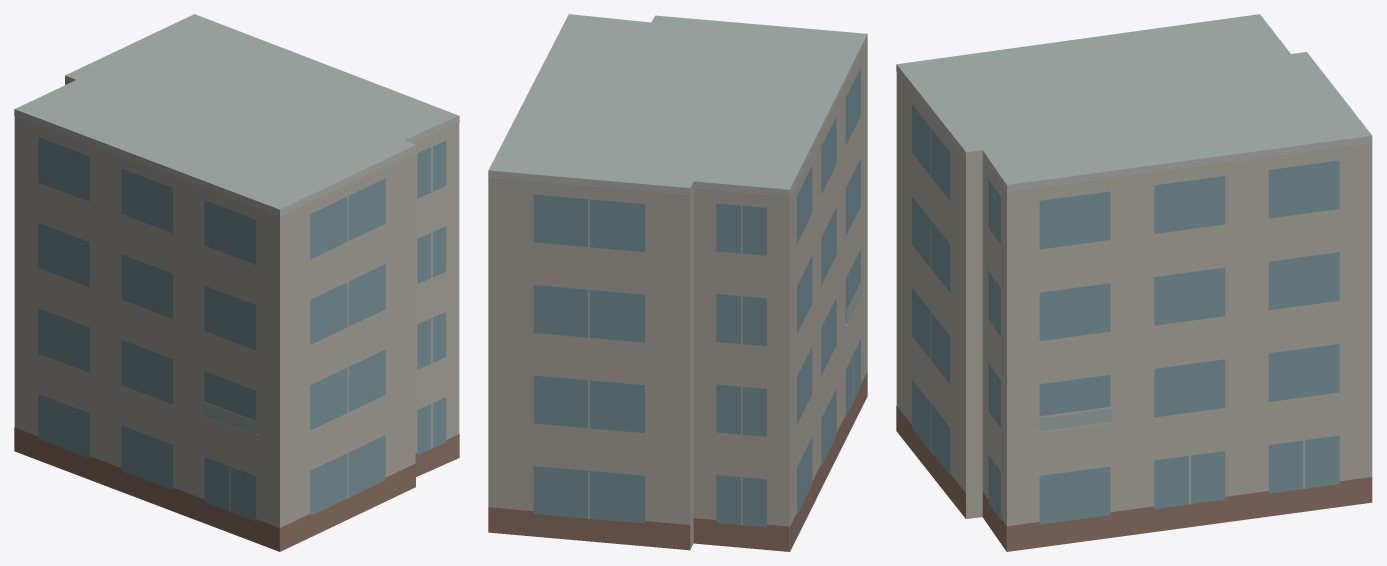
File: survey-upis-32526293.glb
3 renders of one model, left to right at view 1: azimuth 30°, elevation 25°; view 2: azimuth 150°, elevation 25°; view 3: azimuth 270°, elevation 25°, orthographic. The views are drawn at different scales.
Parts seen in each view (by area): view 1: survey-upis-32526293.tmp; view 2: survey-upis-32526293.tmp; view 3: survey-upis-32526293.tmp.
Part boxes in pixels (x1,y1,x2,y2): survey-upis-32526293.tmp: (14,14,459,551); survey-upis-32526293.tmp: (488,14,867,551); survey-upis-32526293.tmp: (896,14,1372,551).
Size of the model in its own units: 12.2 by 12.2 by 14.35.
